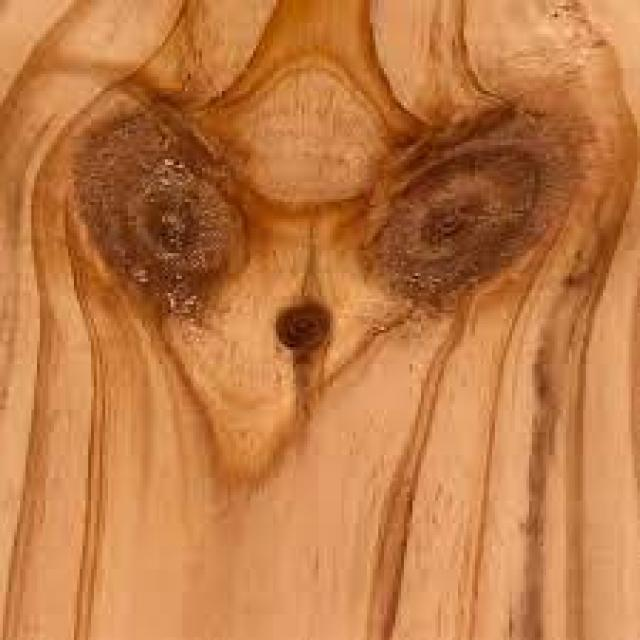have-wooden-eyes: (80, 115, 241, 316), (376, 141, 546, 304), (275, 301, 331, 351)
